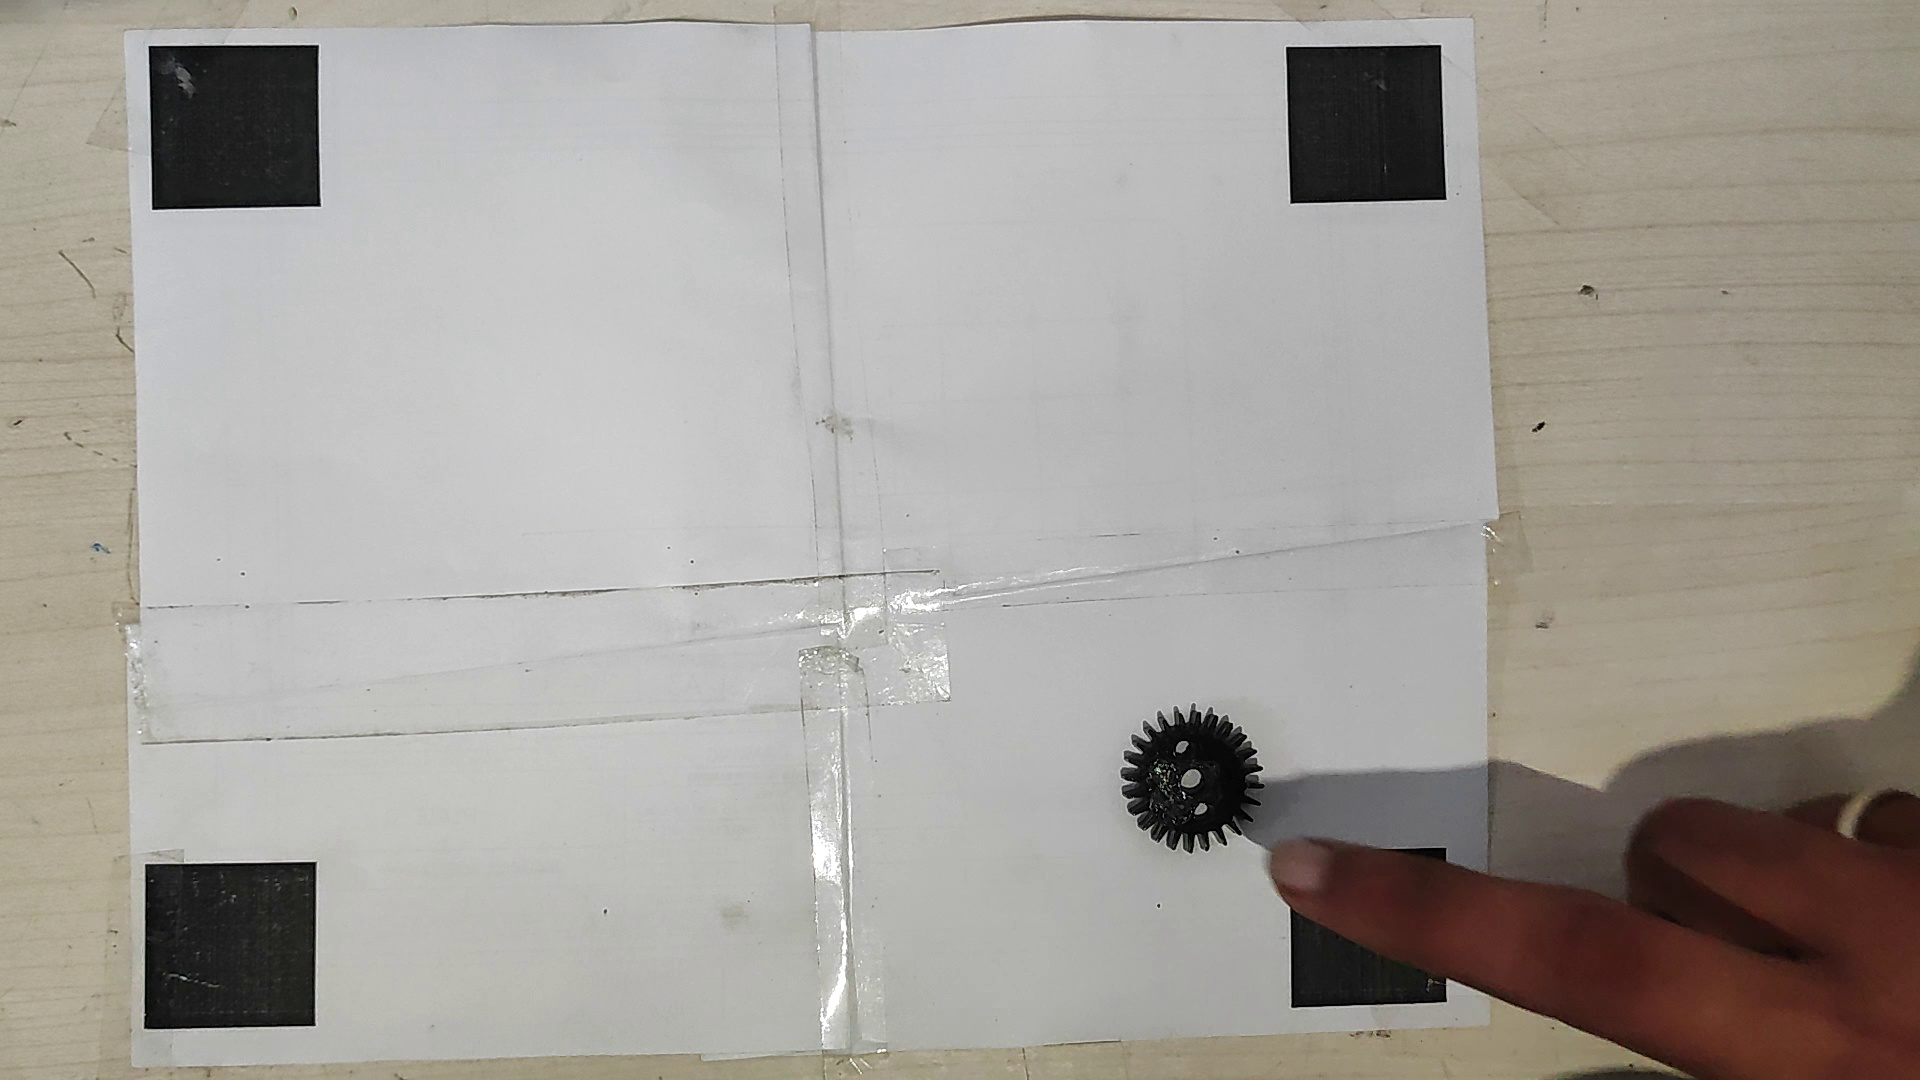Gear: (1123, 701, 1259, 855)
